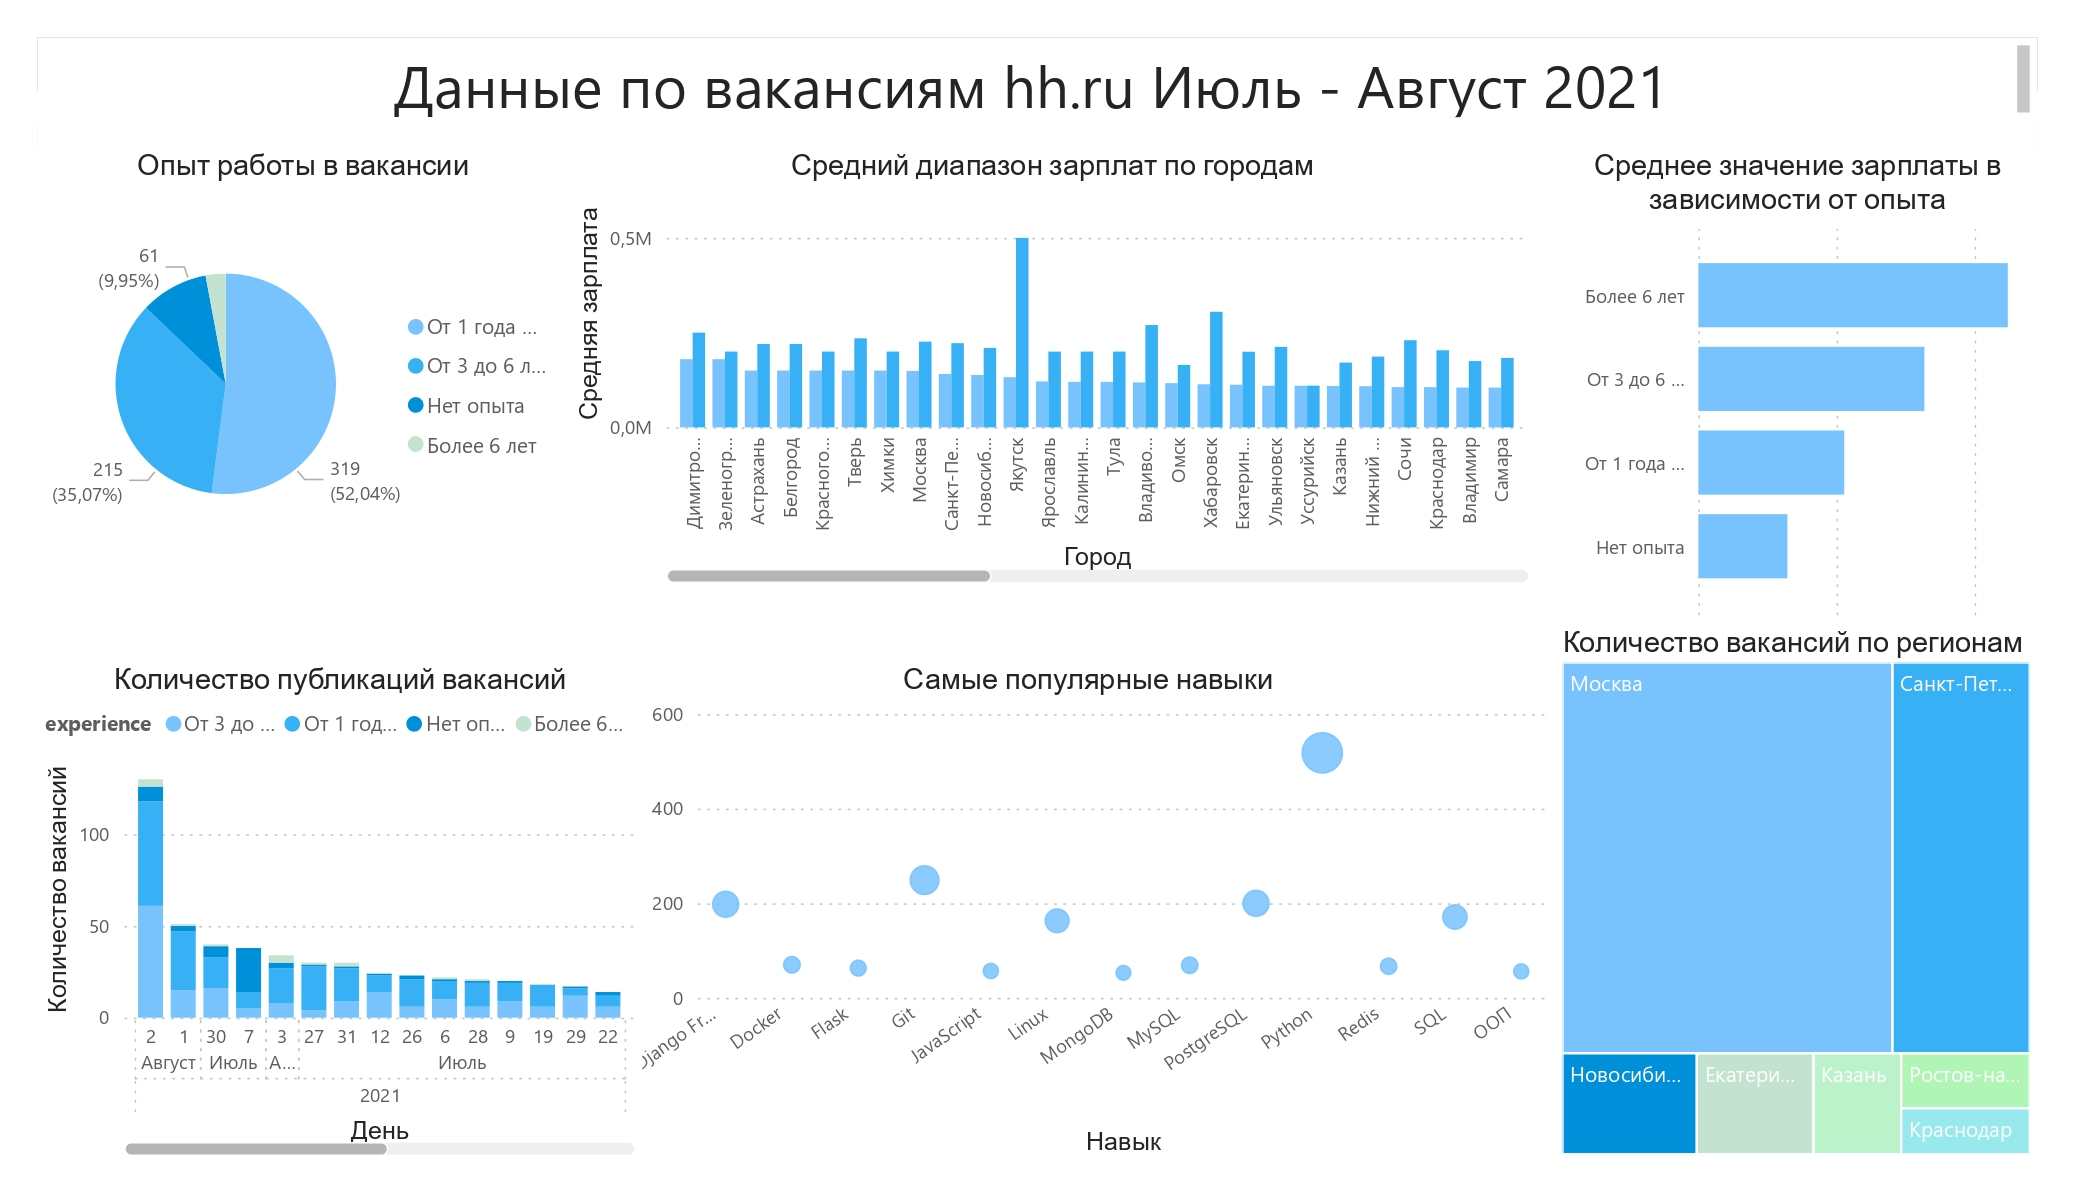

This screenshot's page, from the dashboard's own definition file:
{"tool":"powerbi","page":{"name":"Страница 2","canvas":[1280,720],"ordinal":0},"visuals":[{"type":"pieChart","title":"Опыт работы в вакансии","fields":{"Category":["filtered_df.experience"],"Y":["CountNonNull(filtered_df.experience)"]},"box":[0,71.3,339.9,282.7],"z":0},{"type":"lineClusteredColumnComboChart","title":"Средний диапазон зарплат по городам","fields":{"Category":["filtered_df.area"],"Y":["Avg(filtered_df.salary_from)","Avg(filtered_df.salary_to)"]},"box":[340,71.4,618.6,282.9],"z":1000},{"type":"scatterChart","title":"Самые популярные навыки","fields":{"Y":["skills_count.Count"],"X":["skills_count.Skill"],"Size":["skills_count.Count"]},"box":[373.3,400,598.3,320],"z":2000},{"type":"columnChart","title":"Количество публикаций вакансий","fields":{"Series":["D__df2021-08-03-edited.experience"],"Category":["D__df2021-08-03-edited.created.Изменение.Иерархия дат.Год","D__df2021-08-03-edited.created.Изменение.Иерархия дат.Месяц","D__df2021-08-03-edited.created.Изменение.Иерархия дат.День"],"Y":["CountNonNull(D__df2021-08-03-edited.vacancy)"]},"box":[0,400,387.1,320],"z":3000},{"type":"clusteredBarChart","title":"Среднее значение зарплаты в зависимости от опыта ","fields":{"Y":["Avg(filtered_df.salary_from)"],"Category":["filtered_df.experience"]},"box":[972.9,71.4,307.1,340],"z":4000},{"type":"textbox","box":[0,0,1280,55.7],"z":5000},{"type":"treemap","title":"Количество вакансий по регионам","fields":{"Group":["cleaned_vacancy_dataset.area"],"Values":["CountNonNull(cleaned_vacancy_dataset.vacancy)"]},"box":[971.4,375.7,308.6,344.3],"z":6000}]}

Visuals, with their boxes in screenshot pixels (x1, y1, x2, y2):
"Опыт работы в вакансии" pieChart: bbox(38, 149, 569, 591)
"Средний диапазон зарплат по городам" lineClusteredColumnComboChart: bbox(569, 149, 1535, 591)
"Самые популярные навыки" scatterChart: bbox(621, 662, 1556, 1162)
"Количество публикаций вакансий" columnChart: bbox(38, 662, 642, 1162)
"Среднее значение зарплаты в зависимости от опыта " clusteredBarChart: bbox(1558, 149, 2038, 680)
textbox: bbox(38, 38, 2038, 125)
"Количество вакансий по регионам" treemap: bbox(1555, 625, 2038, 1162)
